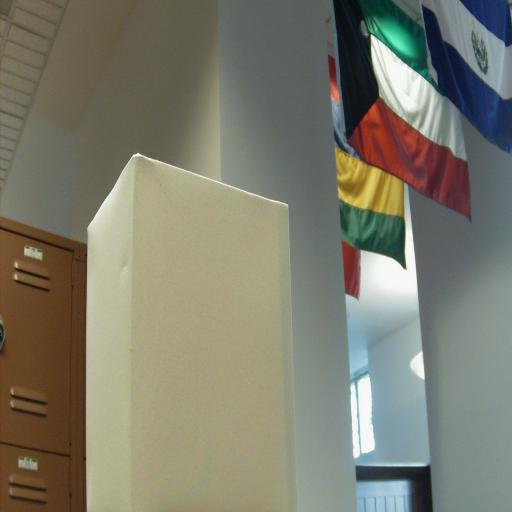lamp: (86, 151, 297, 512)
